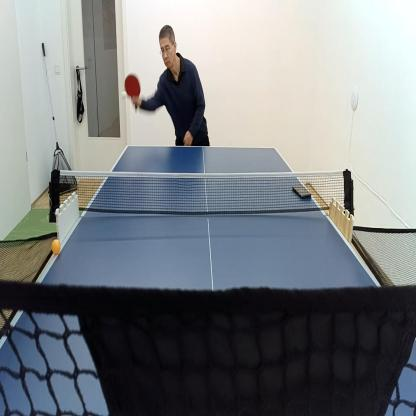Ball: (52, 238, 61, 255), (121, 91, 126, 98)
